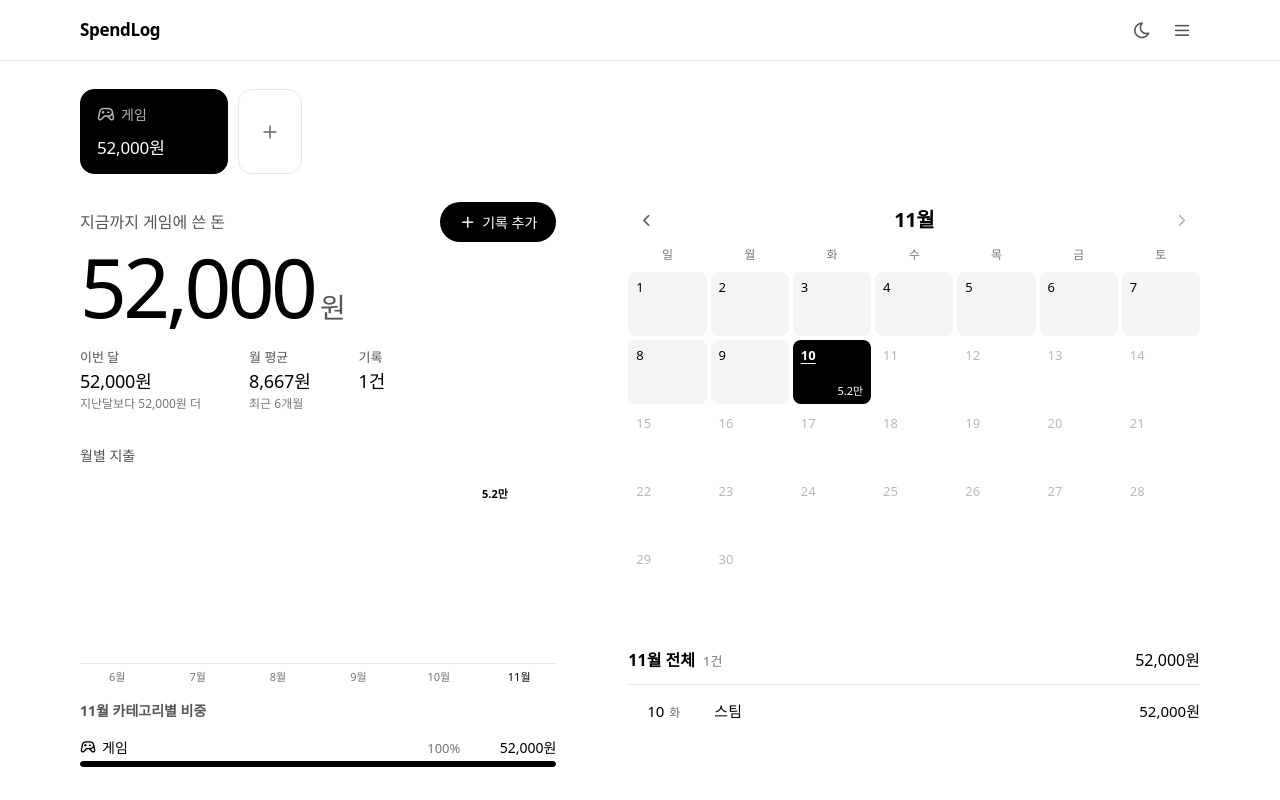
Scenario: App when the change succeeds but reloading fails › blocks further changes until reloading succeeds
Step 1. Click the button with aria-label "스팀 수정" → click(1170, 711), box [620,689,1208,732]
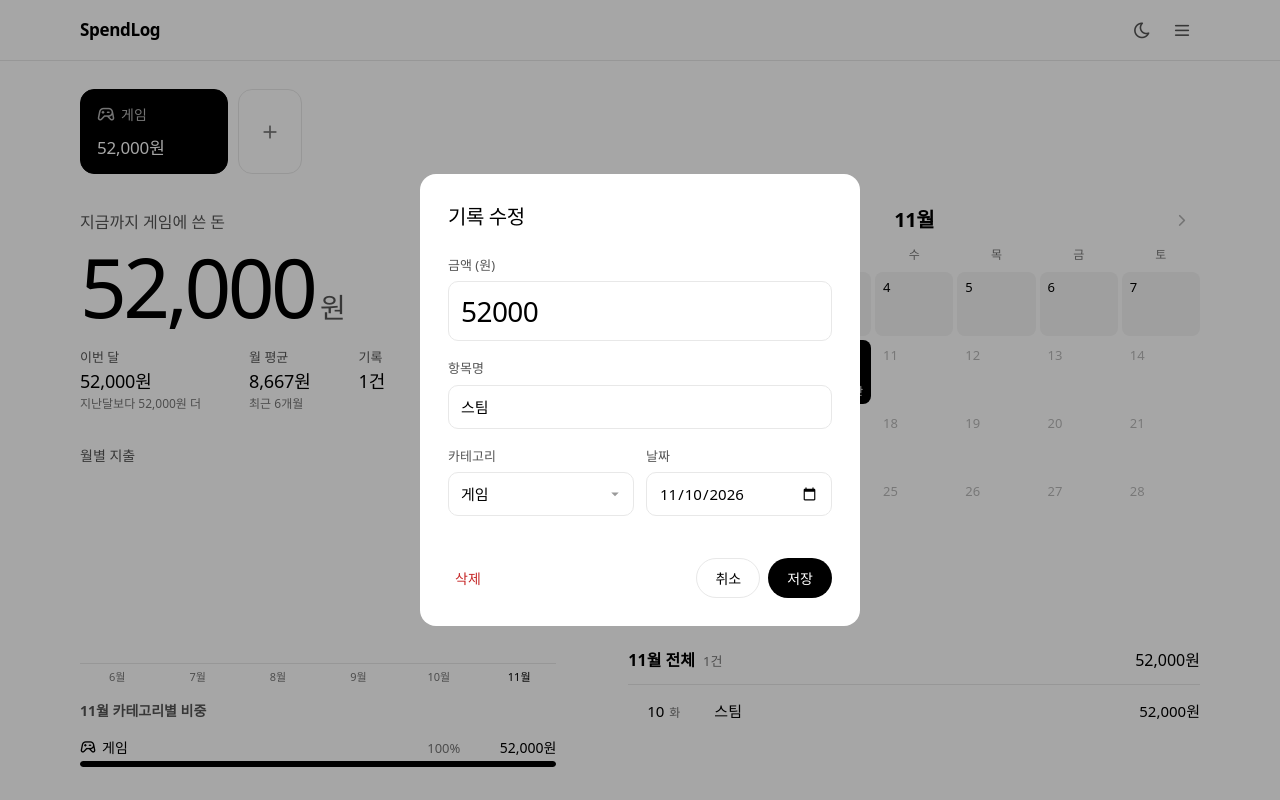
Step 2. Replace the text in the field labelled "항목명" with "스팀 게임" → (640, 407), box [448,385,832,429]
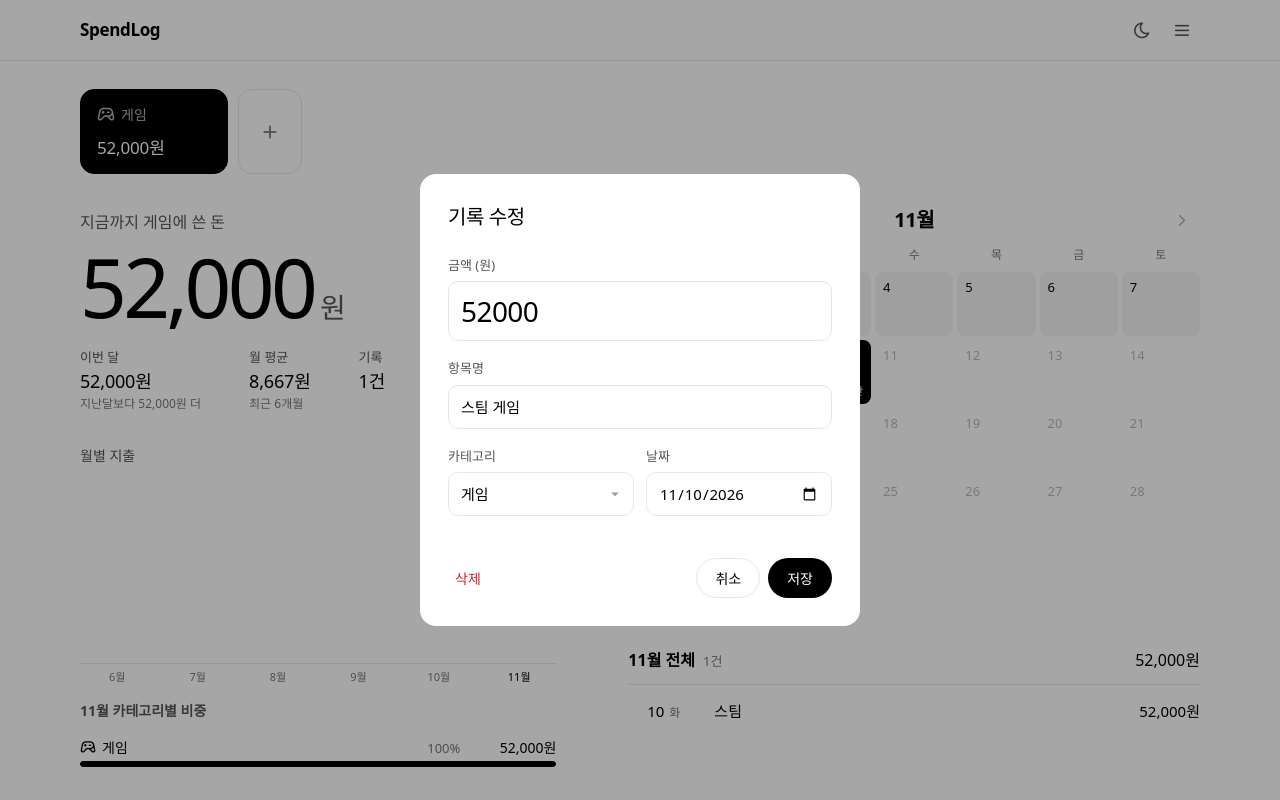
Step 3. Click the button "저장" → click(800, 578), box [768,558,832,598]
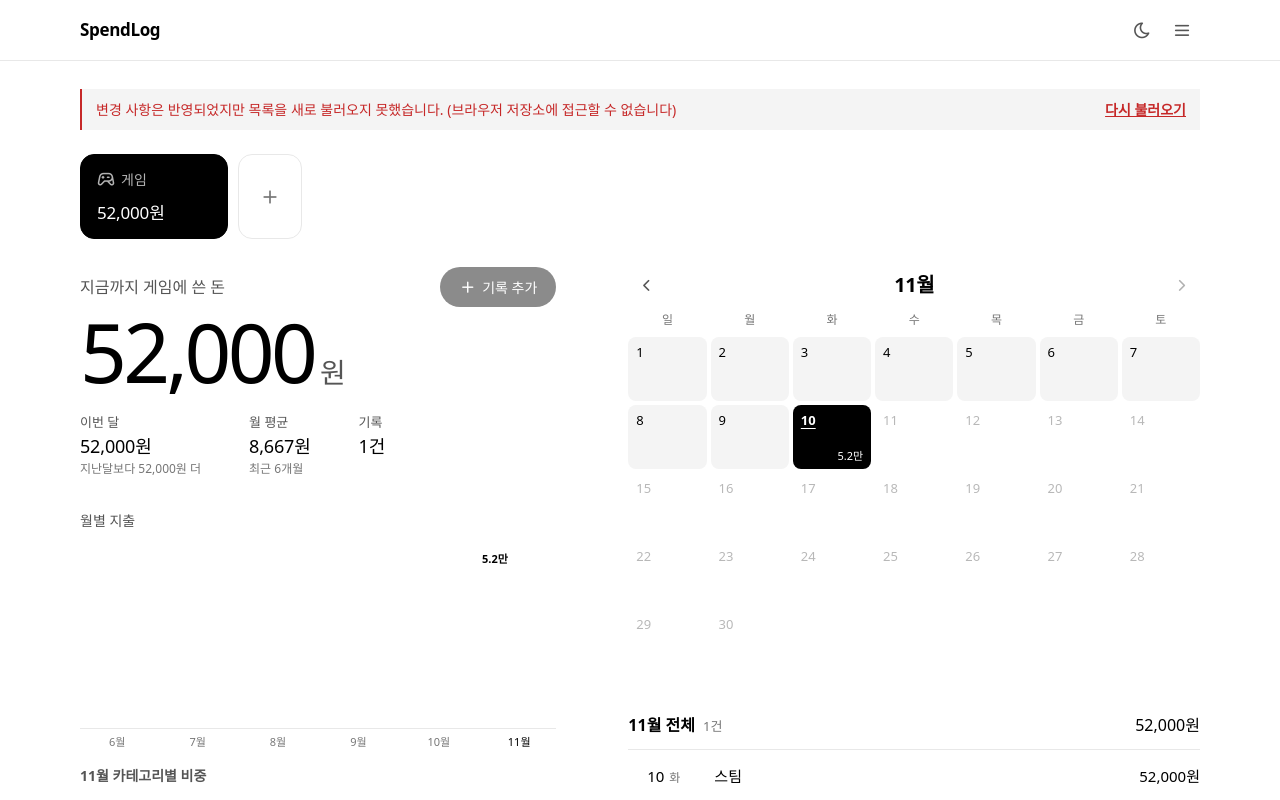
Expected: the text "변경 사항은 반영되었지만 목록을 새로 불러오지 못했습니다. (브라우저 저장소에 접근할 수 없습니다) 다시 불러오기" is shown, [80,89,1200,130]
# 수정 창을 다시 열어도 저장·삭제는 잠겨 있습니다.
Step 4. Click the button with aria-label "스팀 수정" → click(1170, 776), box [620,754,1208,797]
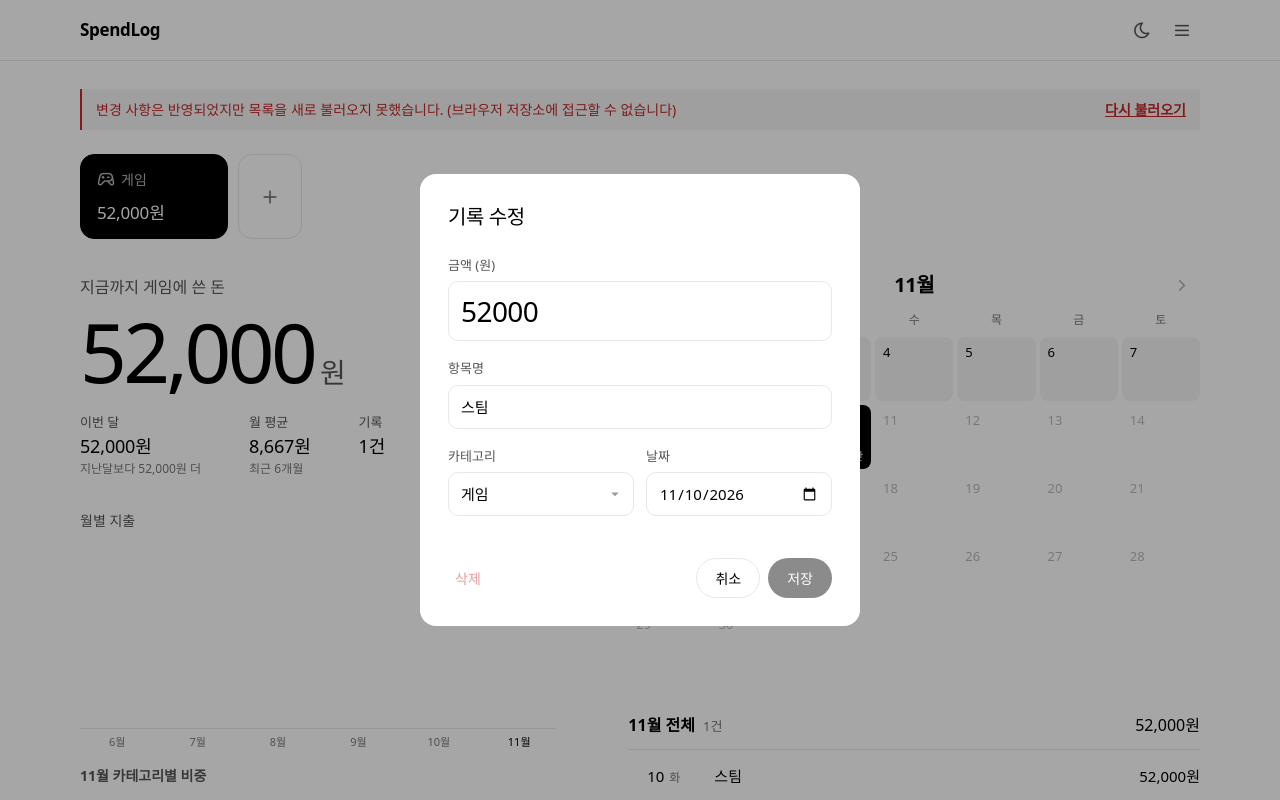
Expected: the button "저장" is disabled, [768,558,832,598]
Expected: the button "삭제" is disabled, [448,558,488,598]
Step 5. Click the button "취소" → click(728, 578), box [696,558,760,598]
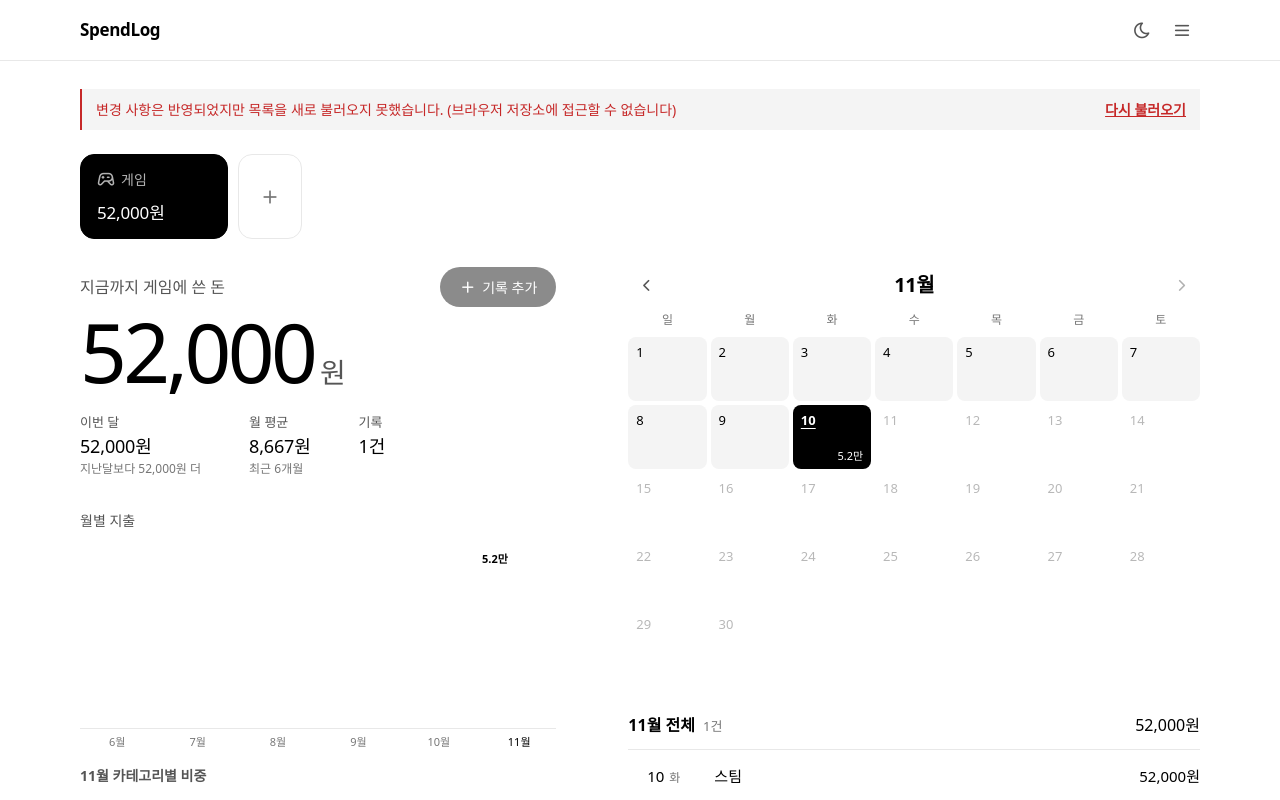
# 다시 불러오기도 실패하면 잠금이 유지됩니다.
Step 6. Click the button "다시 불러오기" → click(1146, 110), box [1105,102,1186,116]
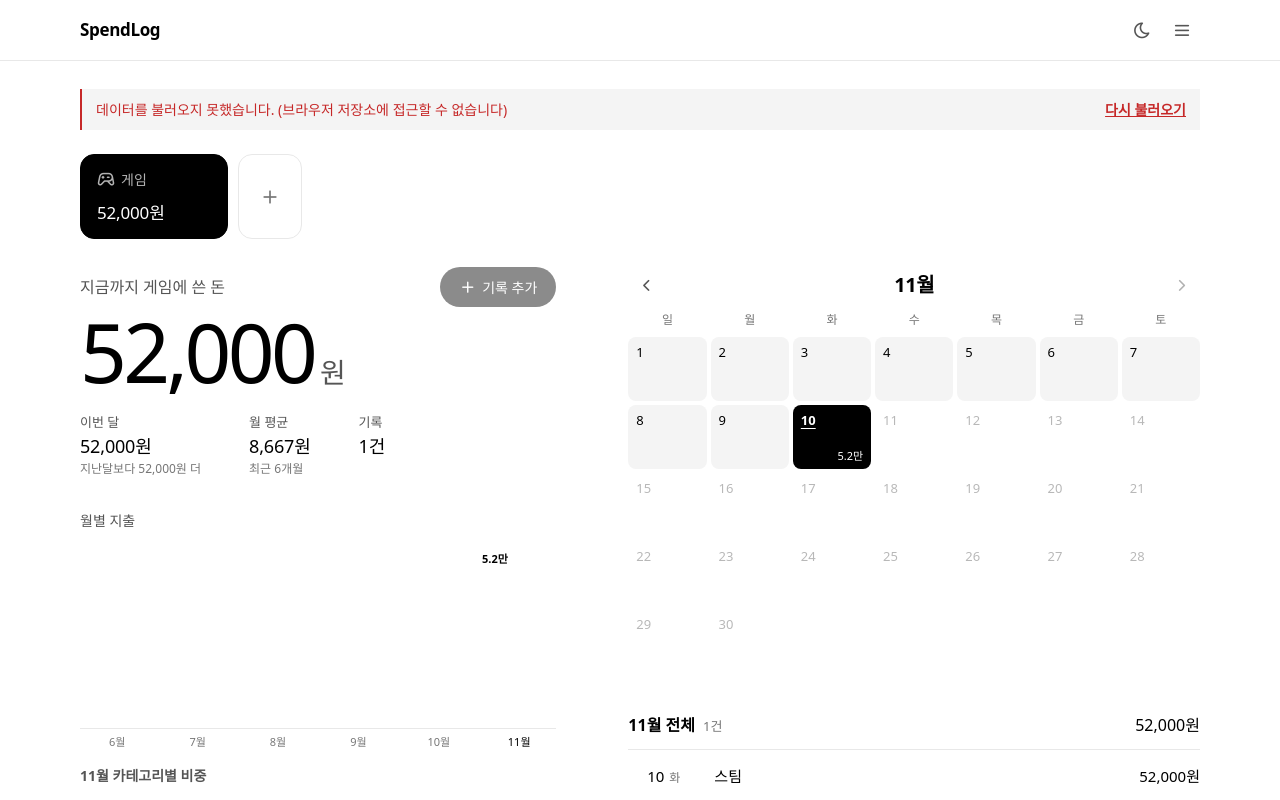
Expected: the button "기록 추가" is disabled, [440,267,556,307]
Expected: the text "데이터를 불러오지 못했습니다. (브라우저 저장소에 접근할 수 없습니다) 다시 불러오기" is shown, [80,89,1200,130]
